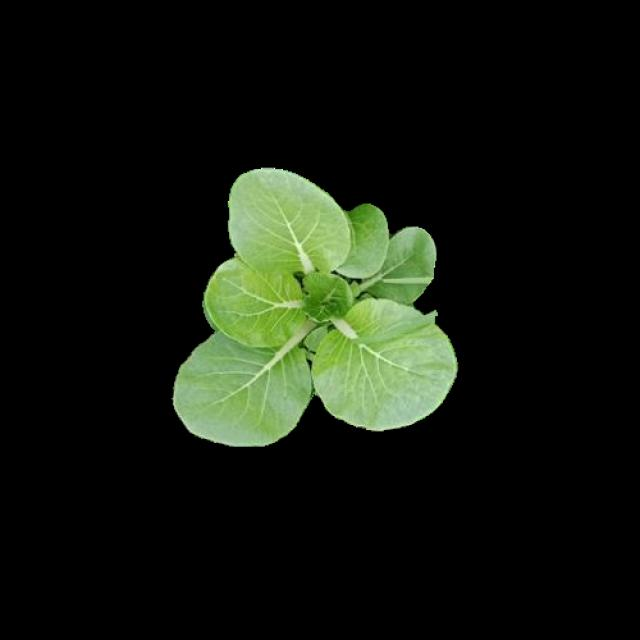healthy: (177, 167, 456, 446)
not-mature: (179, 169, 458, 448)
